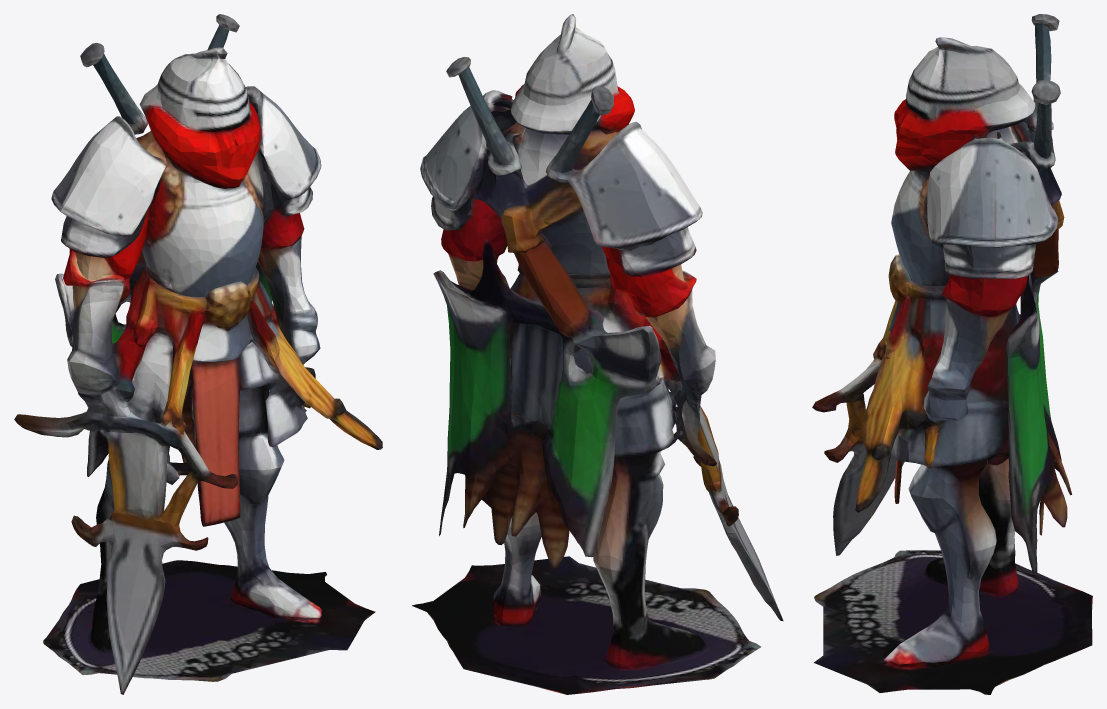
The model's file is anime_renais_warrior.glb.
The picture shows the model from 3 angles, left to right: view 1: azimuth 30°, elevation 25°; view 2: azimuth 150°, elevation 25°; view 3: azimuth 270°, elevation 25°; orthographic projection. The views are drawn at different scales.
Visible parts, largest first — view 1: geometry_0; view 2: geometry_0; view 3: geometry_0.
Boxes of the visible parts, x1,y1,x2,y2 form: geometry_0: (14,14,382,694); geometry_0: (412,14,783,694); geometry_0: (812,14,1092,694).
Bounding box in the file's own units: 0.5467 × 1 × 0.4278.
1 material, 1 textured.
